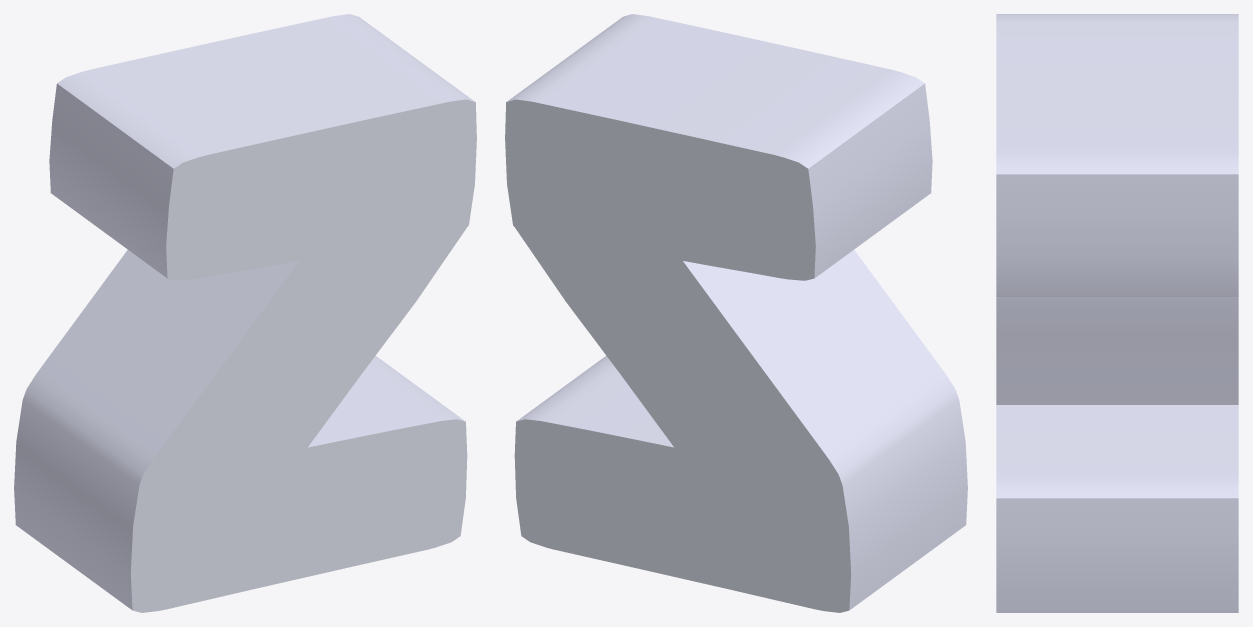
The model's file is Z_Zyzol_Grey.glb.
3 renders of one model, left to right at view 1: azimuth 30°, elevation 25°; view 2: azimuth 150°, elevation 25°; view 3: azimuth 270°, elevation 25°, orthographic. The views are drawn at different scales.
Parts seen in each view (by area): view 1: z_Zyzol_Grey; view 2: z_Zyzol_Grey; view 3: z_Zyzol_Grey.
Boxes of the visible parts, left/top/right/bottom form: z_Zyzol_Grey: left=14, top=14, right=476, bottom=612; z_Zyzol_Grey: left=505, top=14, right=967, bottom=612; z_Zyzol_Grey: left=996, top=14, right=1238, bottom=612.
Size of what is drawn, in the model's own units: 0.077 by 0.0954 by 0.045.
2 materials, 2 textured.
